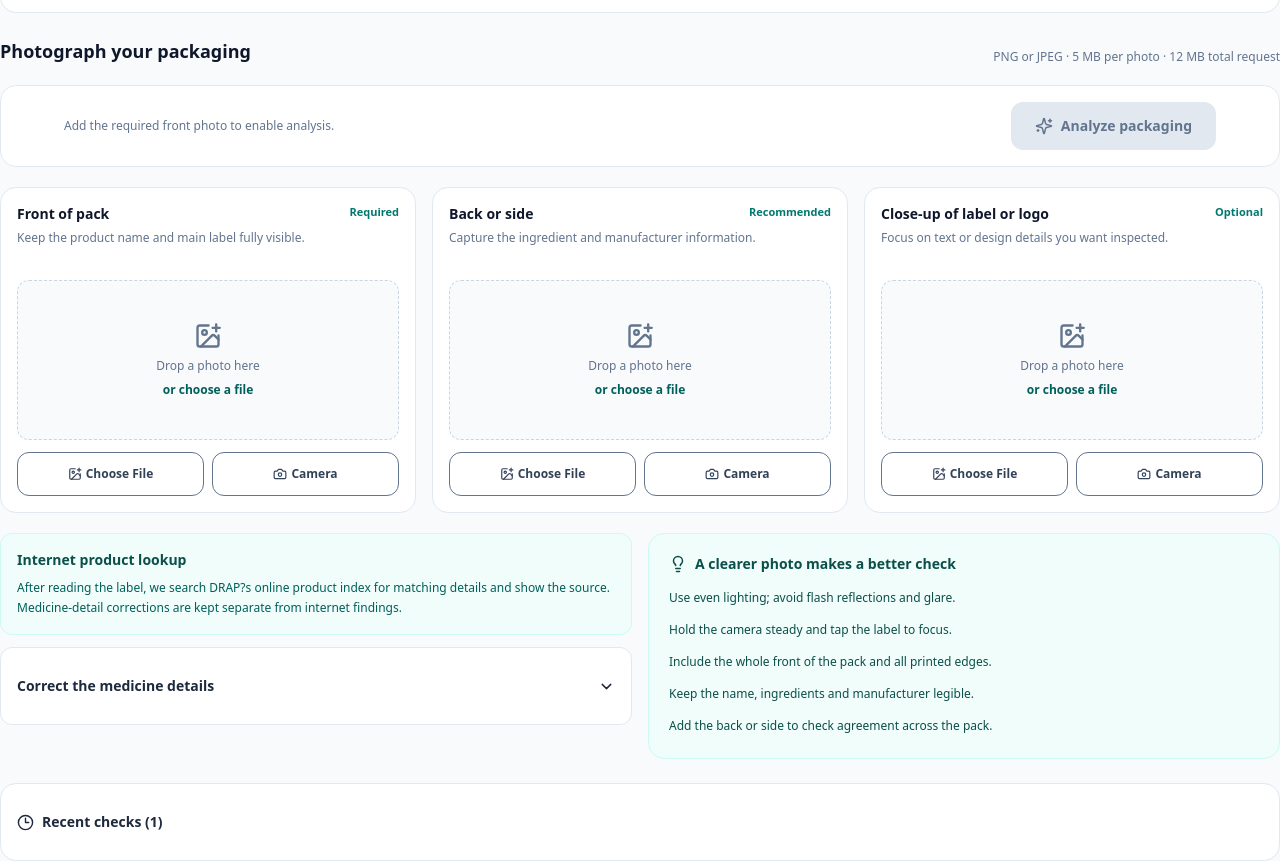
Scenario: loads recent checks without an ordinary scenario selector
(page scrolled)
Click the heading "Recent checks (1)".
click(90, 822)  # box x1=17 y1=812 x2=163 y2=831
(page scrolled)
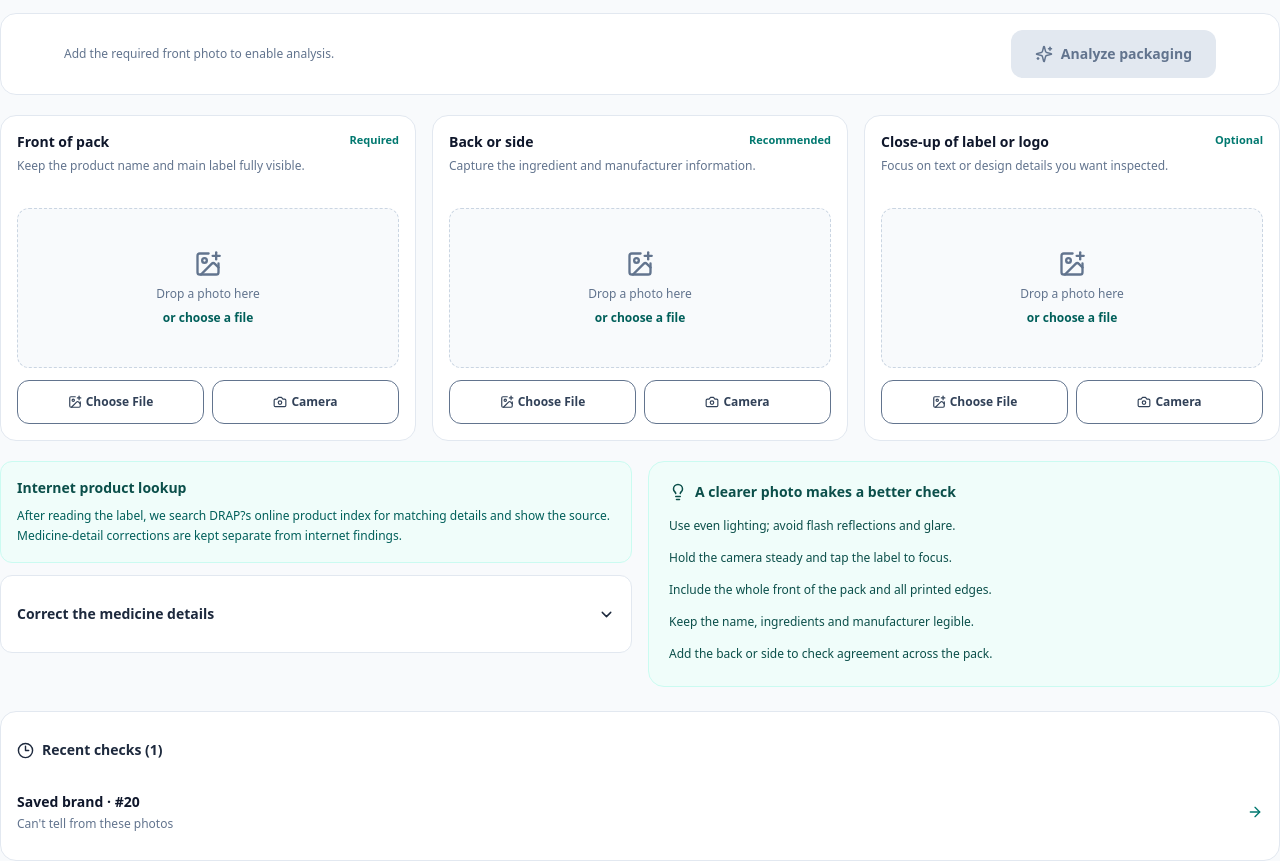
Click the button "Saved brand · #20 Can't tell from these photos".
click(60, 802)  # box x1=17 y1=780 x2=1263 y2=844
(page scrolled)
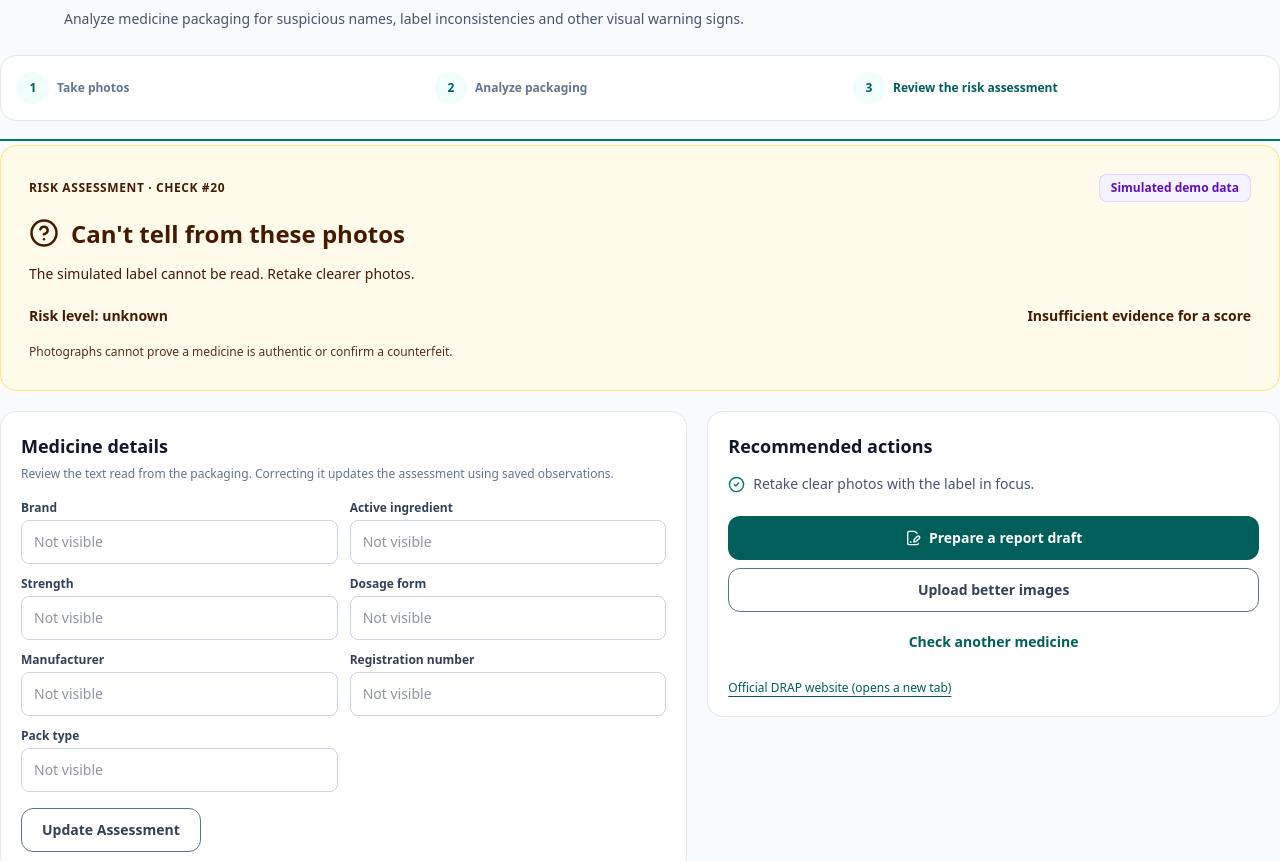
Expected: the heading "Can't tell from these photos" is shown, x1=71 y1=218 x2=405 y2=250
